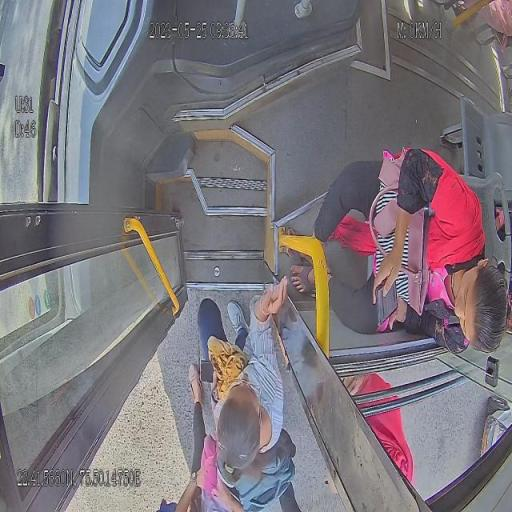persona: (283, 146, 509, 356), (196, 274, 290, 463), (326, 372, 414, 494)
